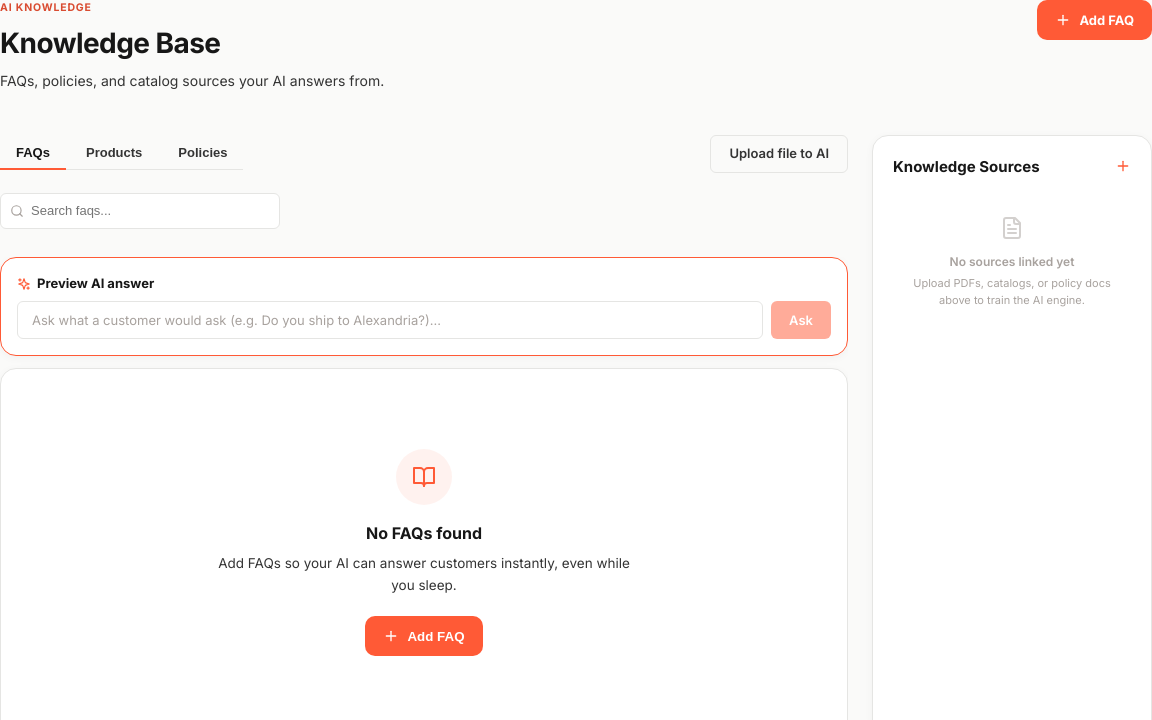
Scenario: Knowledge page › adds and deletes an FAQ with appropriate toasts
Click the button "Add FAQ" in the row of "Knowledge Base".
click(1095, 20)  # box x1=1037 y1=0 x2=1151 y2=40
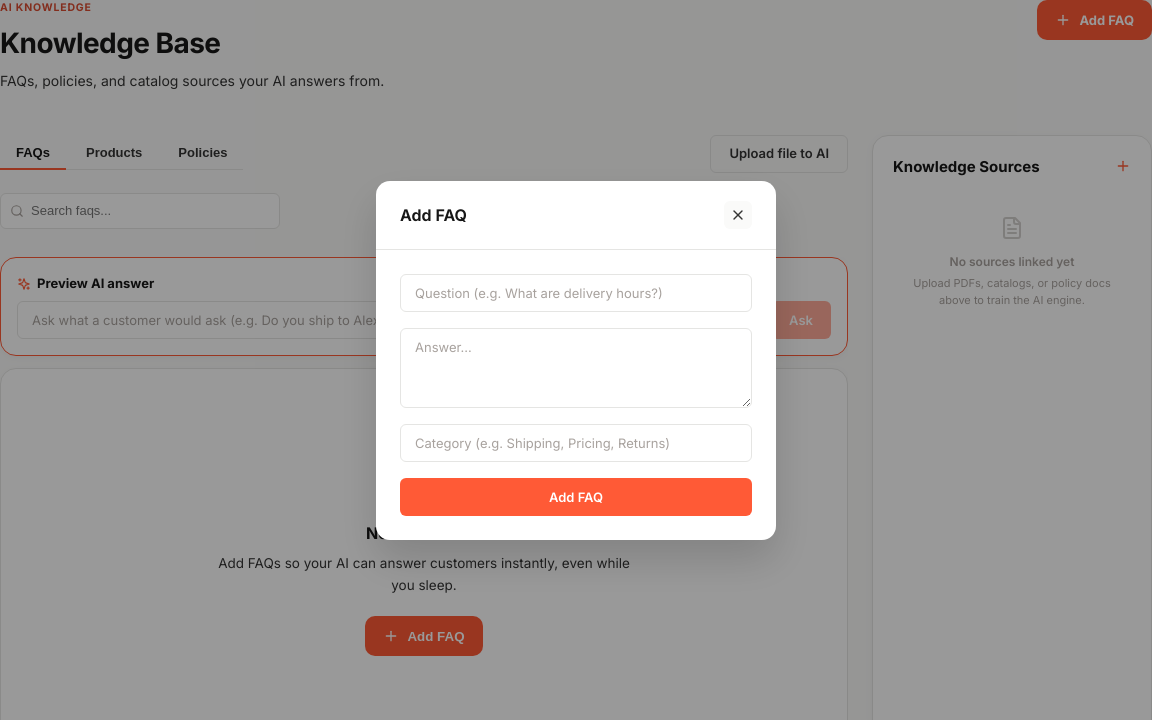
Type "Is cash on delivery available?" into the field with placeholder "Question (e.g. What are delivery hours?)".
click(576, 292); type("Is cash on delivery available?")  # box x1=400 y1=274 x2=752 y2=312
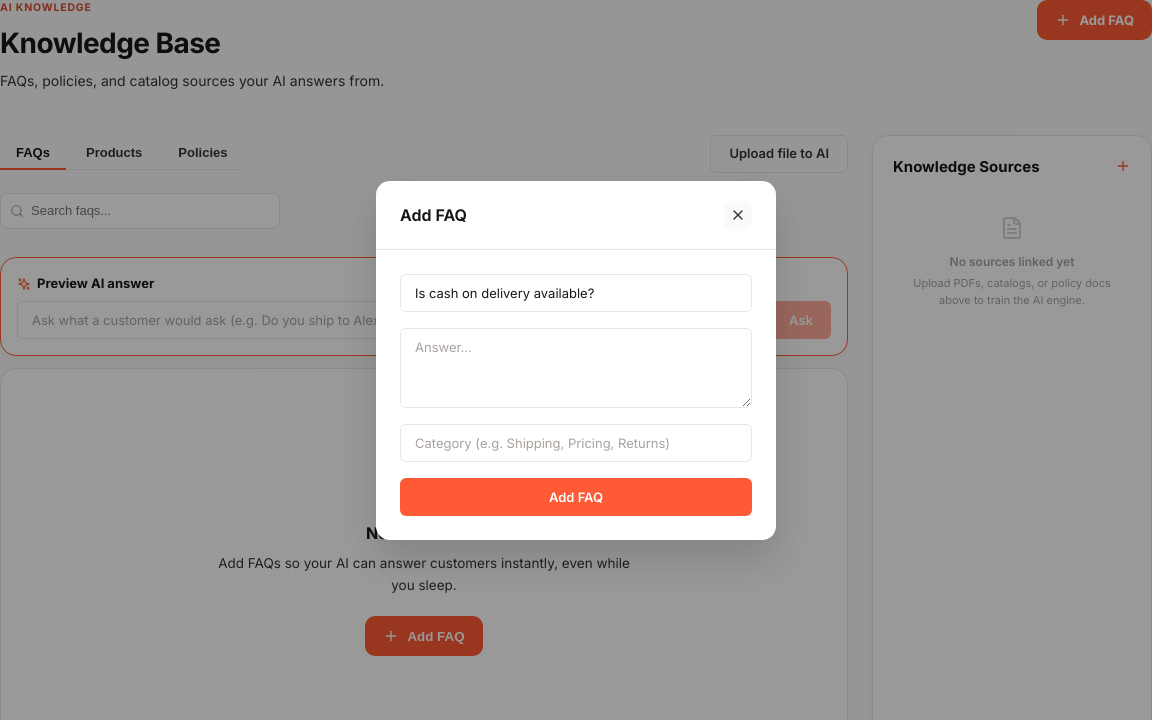
Type "Yes, across all Egypt governorates." into the text box with placeholder "Answer...".
click(576, 368); type("Yes, across all Egypt governorates.")  # box x1=400 y1=328 x2=752 y2=408
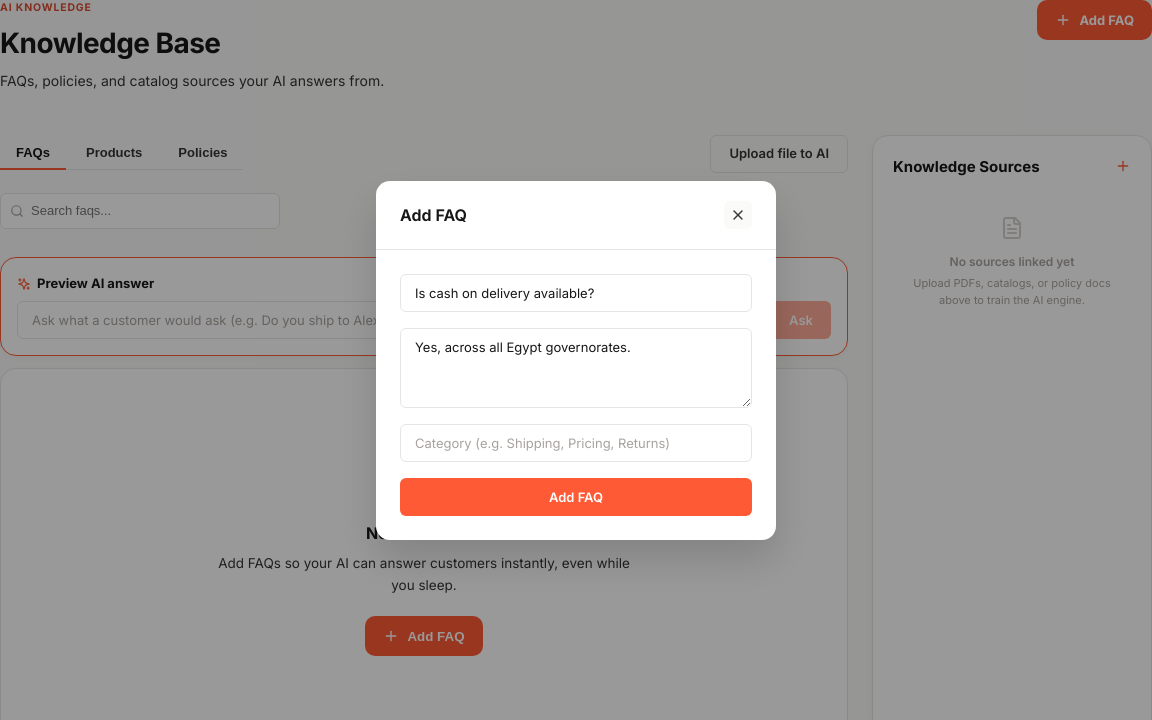
Click the button "Add FAQ".
click(576, 496)  # box x1=400 y1=478 x2=752 y2=516
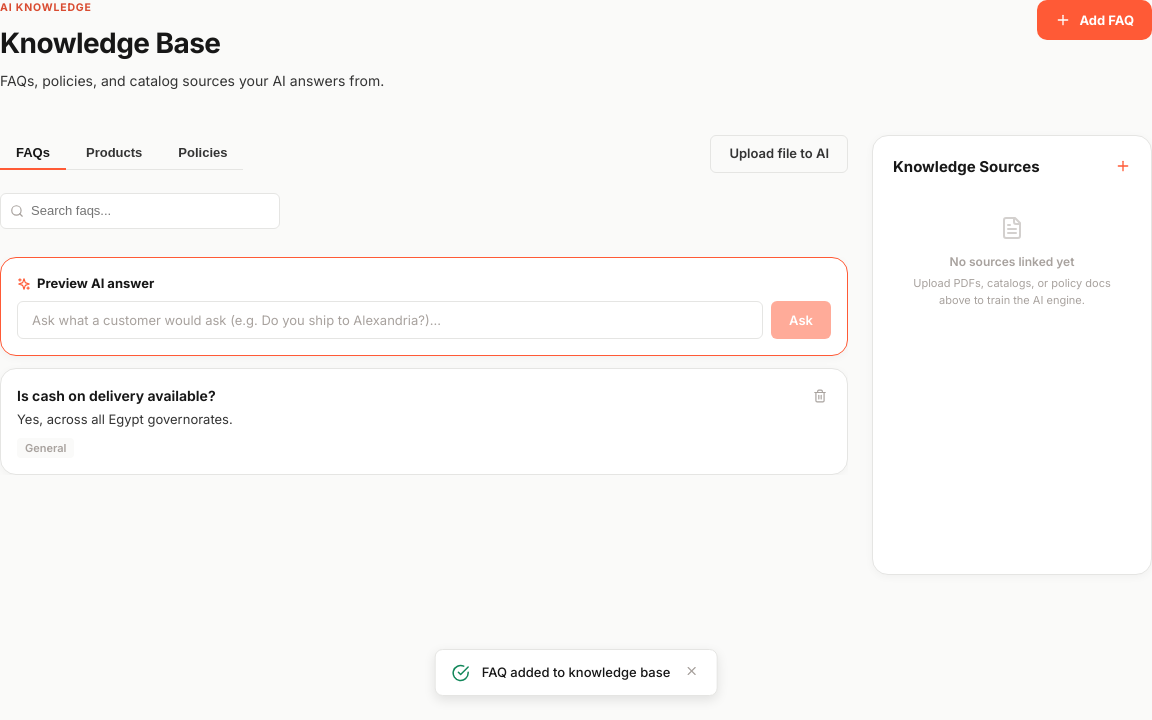
Expected: the text "FAQ added to knowledge base" is shown, x1=482 y1=663 x2=670 y2=682
Expected: the heading "Is cash on delivery available?" is shown, x1=17 y1=385 x2=233 y2=406
Click the button titled "delete faq".
click(820, 398)  # box x1=809 y1=385 x2=831 y2=410
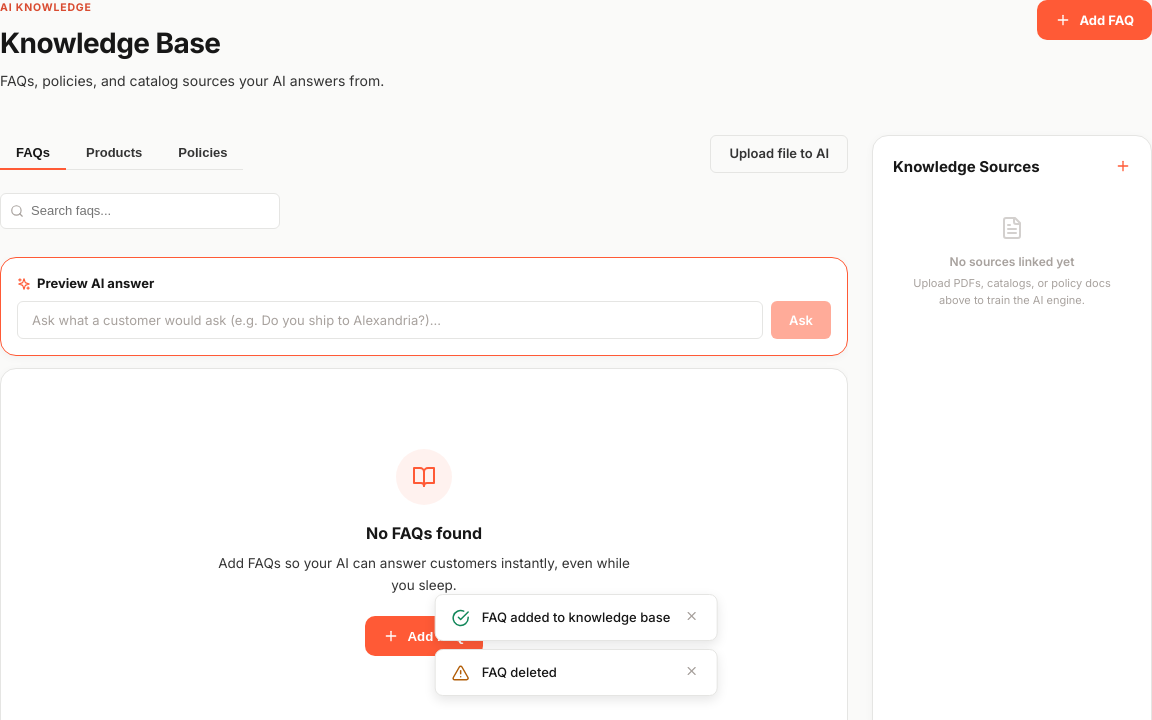
Expected: the text "FAQ deleted" is shown, x1=482 y1=664 x2=557 y2=680
